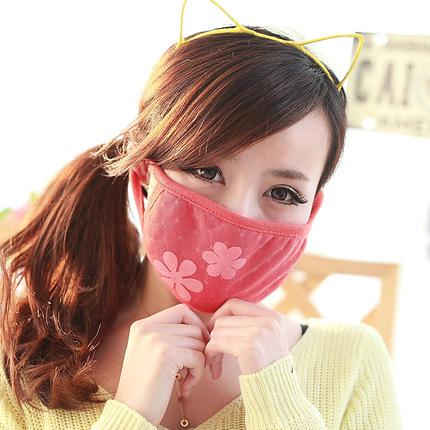OK: (146, 141, 314, 309)
